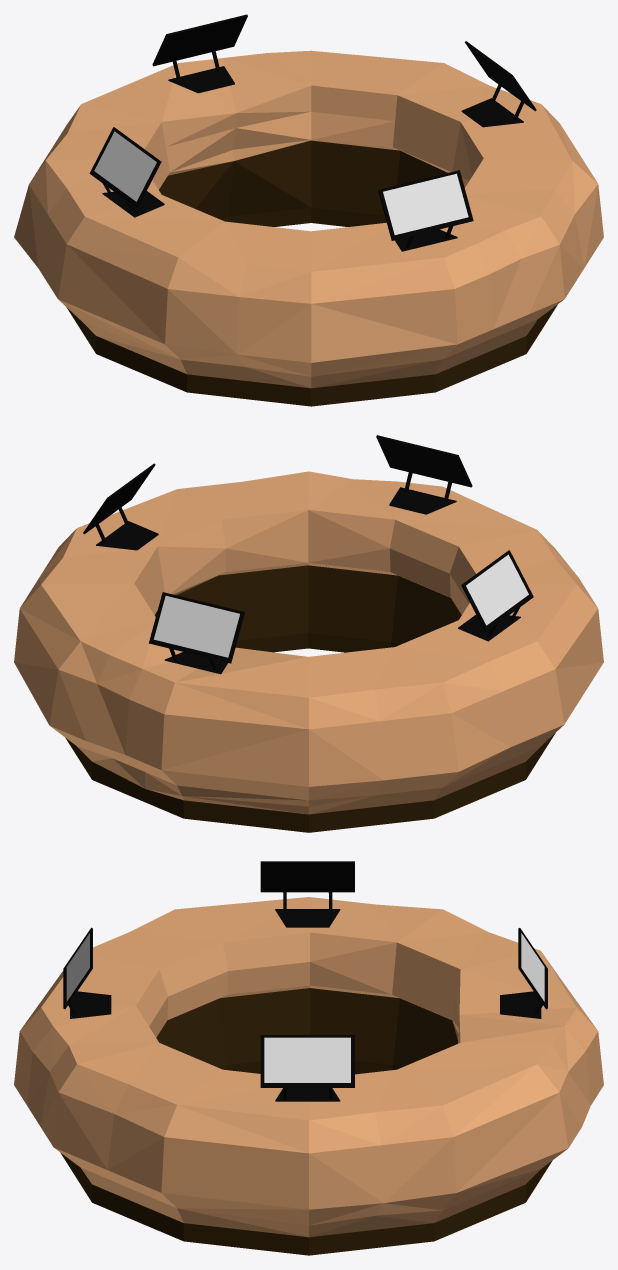
Rendered from Pusat_Info.fbx.
3 views of the same model, one above another, from view 1: azimuth 30°, elevation 25°; view 2: azimuth 150°, elevation 25°; view 3: azimuth 270°, elevation 25° (orthographic).
Visible parts, largest first — view 1: Torus, Cube.021, Cube.022, Cube.020, Cube.026; view 2: Torus, Cube.020, Cube.022, Cube.021, Cube.026; view 3: Torus, Cube.026, Cube.022, Cube.021, Cube.020.
Part boxes in pixels (<box>): Torus: <box>14,50,603,406</box>; Cube.021: <box>378,170,473,251</box>; Cube.022: <box>89,127,164,217</box>; Cube.020: <box>152,14,247,93</box>; Cube.026: <box>461,41,536,127</box>; Torus: <box>14,471,603,832</box>; Cube.020: <box>149,592,244,674</box>; Cube.022: <box>458,550,533,641</box>; Cube.021: <box>376,435,472,514</box>; Cube.026: <box>83,463,158,550</box>; Torus: <box>14,897,603,1255</box>; Cube.026: <box>260,1035,354,1101</box>; Cube.022: <box>260,861,354,927</box>; Cube.021: <box>63,927,111,1018</box>; Cube.020: <box>500,928,547,1018</box>.
Size of the model in its own units: 193 by 73.16 by 193.
